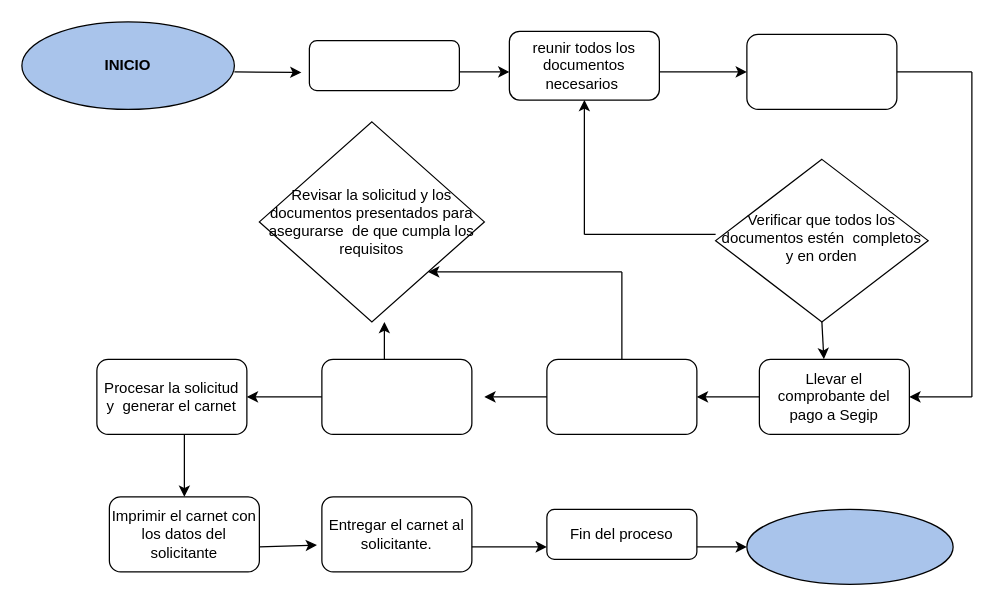
Image size: 1004x606. Some labels were removed from this diagram. Each missing label, with the centre of its shape:
"Entregar la solicitud y los documentos en el lugar designado" belongs at [621,396].
"FIn" belongs at [849,546].
"Inicio del proceso" belongs at [383,65].
"Llenar el formulario de solicitud con la información requerida" belongs at [396,396].
"Realizar el pago correspondiente del carnet." belongs at [821,71].
